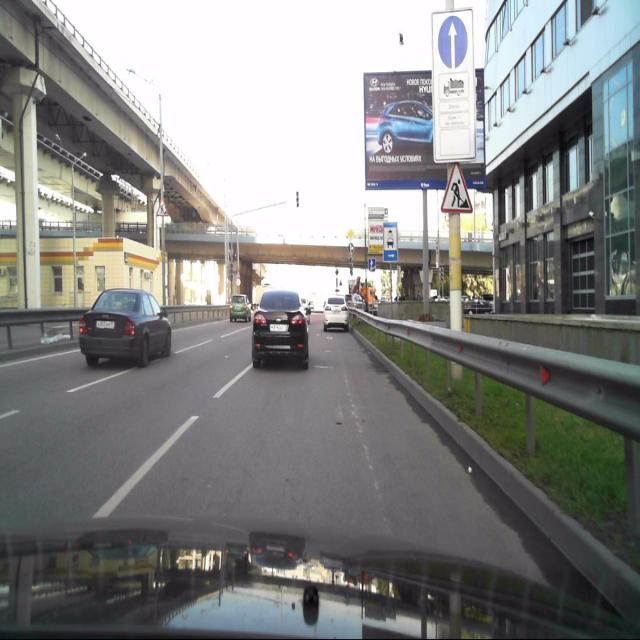object: (432, 7, 476, 162), (156, 196, 170, 217)
road sign: (442, 164, 472, 212), (384, 225, 397, 262)
